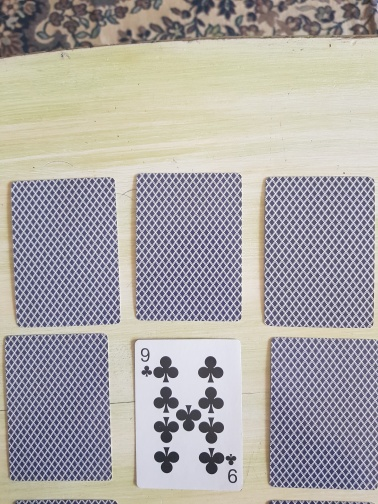nine: (133, 339, 245, 492)
